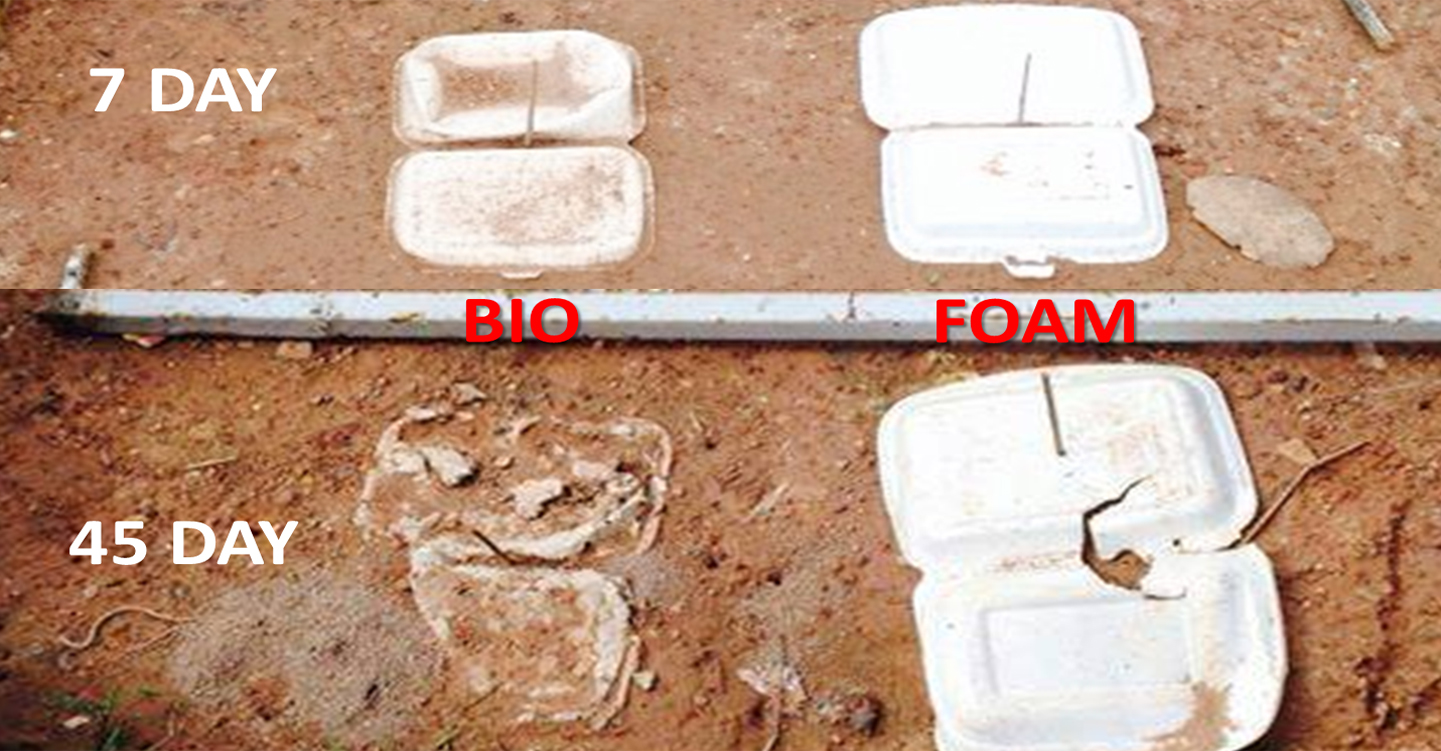FoamBox: (853, 4, 1179, 283), (382, 26, 665, 286)
